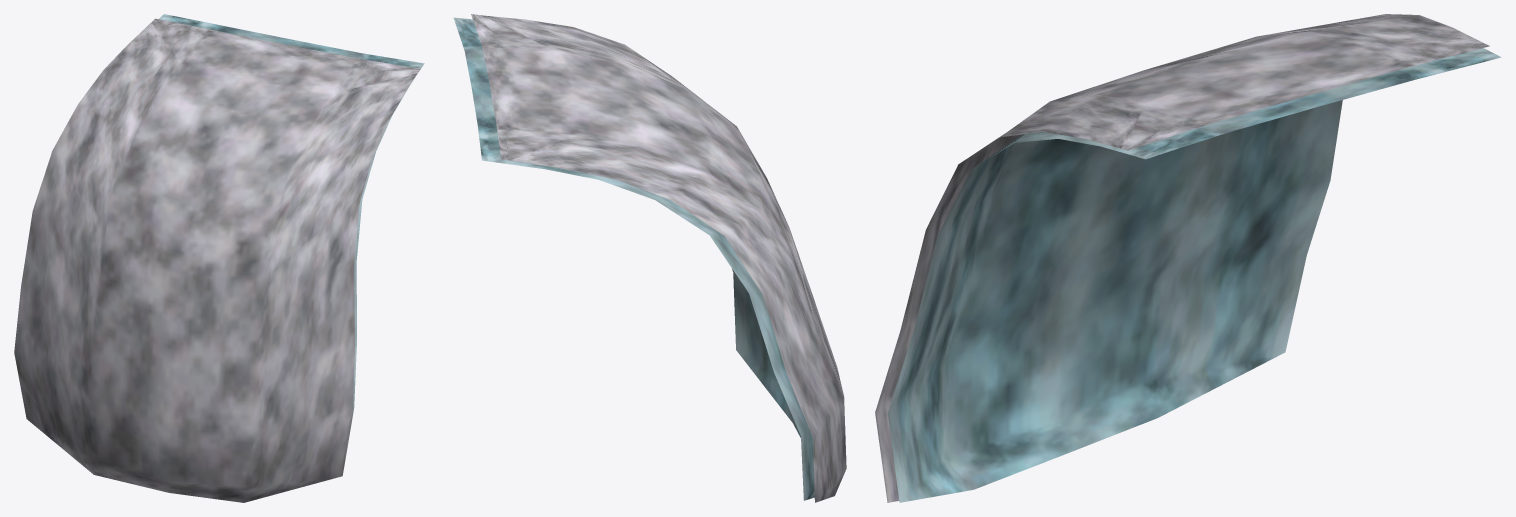
Rendered from CB_NEWPLAYSURFACE_CB_WATERFALLS09.fbx.
3 views of the same model, side by side, from view 1: azimuth 30°, elevation 25°; view 2: azimuth 150°, elevation 25°; view 3: azimuth 270°, elevation 25° (orthographic). The views are drawn at different scales.
Visible parts, largest first — view 1: CB_NEWPLAYSURFACE_CB_WATERFALLS09; view 2: CB_NEWPLAYSURFACE_CB_WATERFALLS09; view 3: CB_NEWPLAYSURFACE_CB_WATERFALLS09.
Part boxes in pixels (left/top/right/bottom): CB_NEWPLAYSURFACE_CB_WATERFALLS09: left=14, top=14, right=424, bottom=502; CB_NEWPLAYSURFACE_CB_WATERFALLS09: left=453, top=14, right=846, bottom=502; CB_NEWPLAYSURFACE_CB_WATERFALLS09: left=875, top=14, right=1501, bottom=502.
Bounding box in the file's own units: 61181 × 54747 × 61049.
2 materials, 2 textured.
